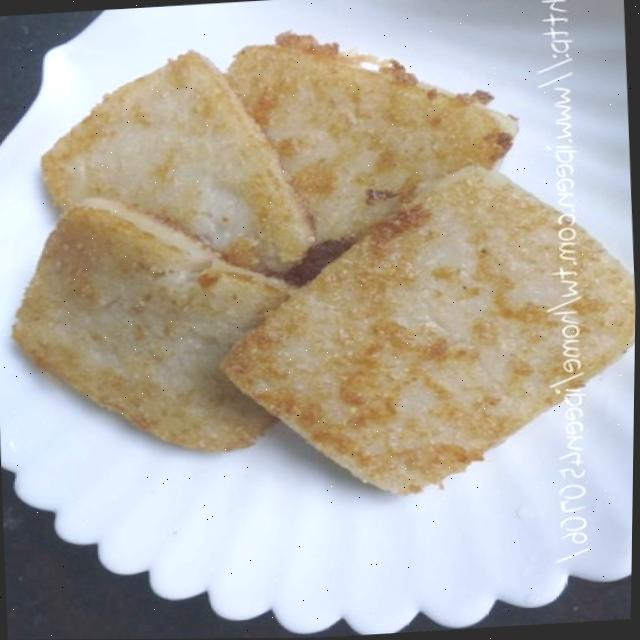蛋糕甜品: (28, 19, 624, 545)
